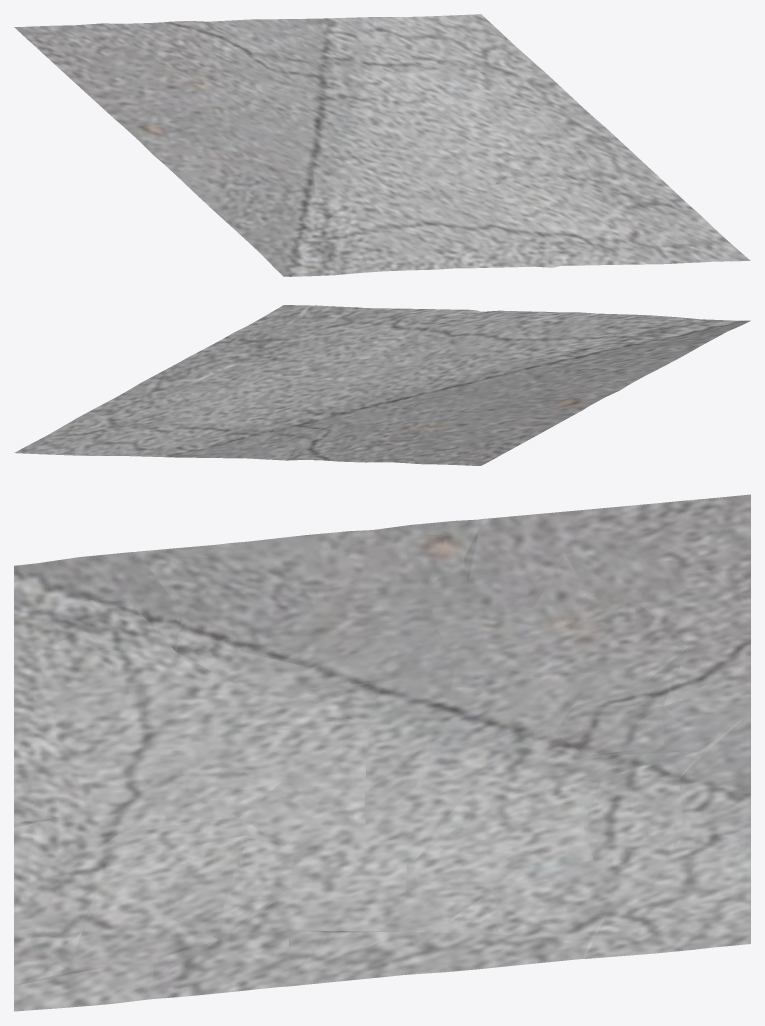
3 renders of one model, top to bottom at view 1: azimuth 30°, elevation 25°; view 2: azimuth 150°, elevation 25°; view 3: azimuth 270°, elevation 25°, orthographic. The views are drawn at different scales.
Size of the model in its own units: 1.67 by 0.5155 by 1.67.
3 materials, 3 textured.
